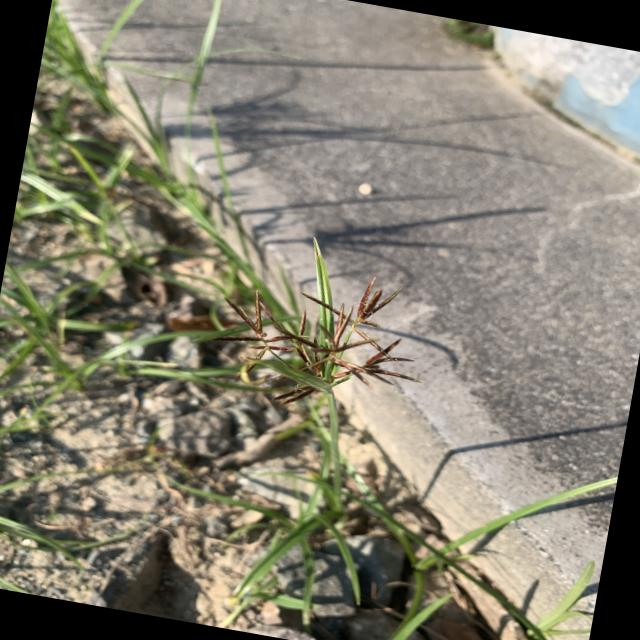cyperus: (200, 241, 443, 424)
